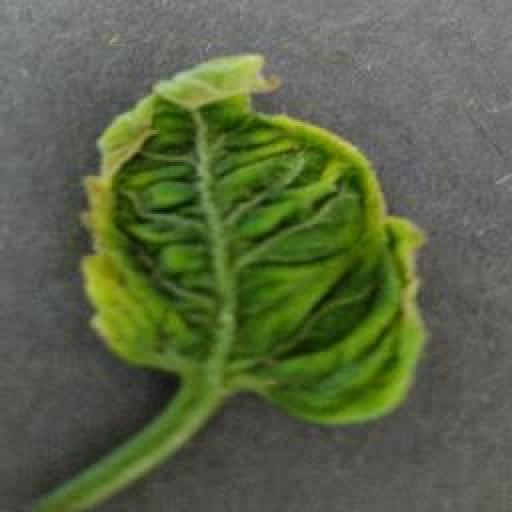Yellow Leaf Curl Virus: (77, 51, 432, 425)
